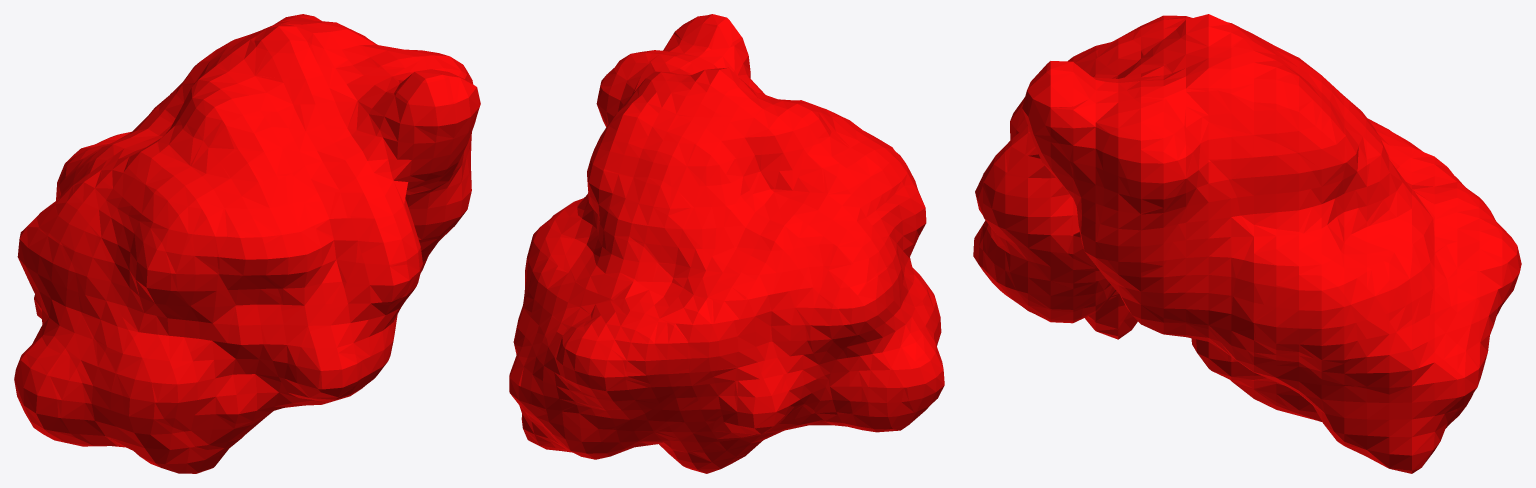
File: ygiC_coarse.dae
3 renders of one model, left to right at view 1: azimuth 30°, elevation 25°; view 2: azimuth 150°, elevation 25°; view 3: azimuth 270°, elevation 25°, orthographic. The views are drawn at different scales.
Parts seen in each view (by area): view 1: ygiC; view 2: ygiC; view 3: ygiC.
Boxes of the visible parts, x1,y1,x2,y2 form: ygiC: (14, 14, 480, 473); ygiC: (509, 14, 944, 473); ygiC: (973, 14, 1521, 473).
Size of the model in its own units: 61.21 by 57.21 by 67.68.
